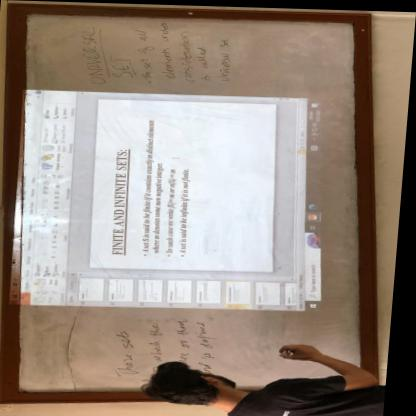Handwritten text: (73, 23, 109, 86), (196, 316, 232, 372), (154, 18, 182, 82), (113, 327, 147, 378), (148, 318, 176, 374), (133, 25, 158, 81), (216, 35, 241, 83), (178, 313, 199, 369), (175, 29, 197, 81), (192, 39, 215, 84), (107, 53, 136, 79)
Lecturer: (144, 344, 387, 416)
Whiteboard: (14, 8, 375, 394)
